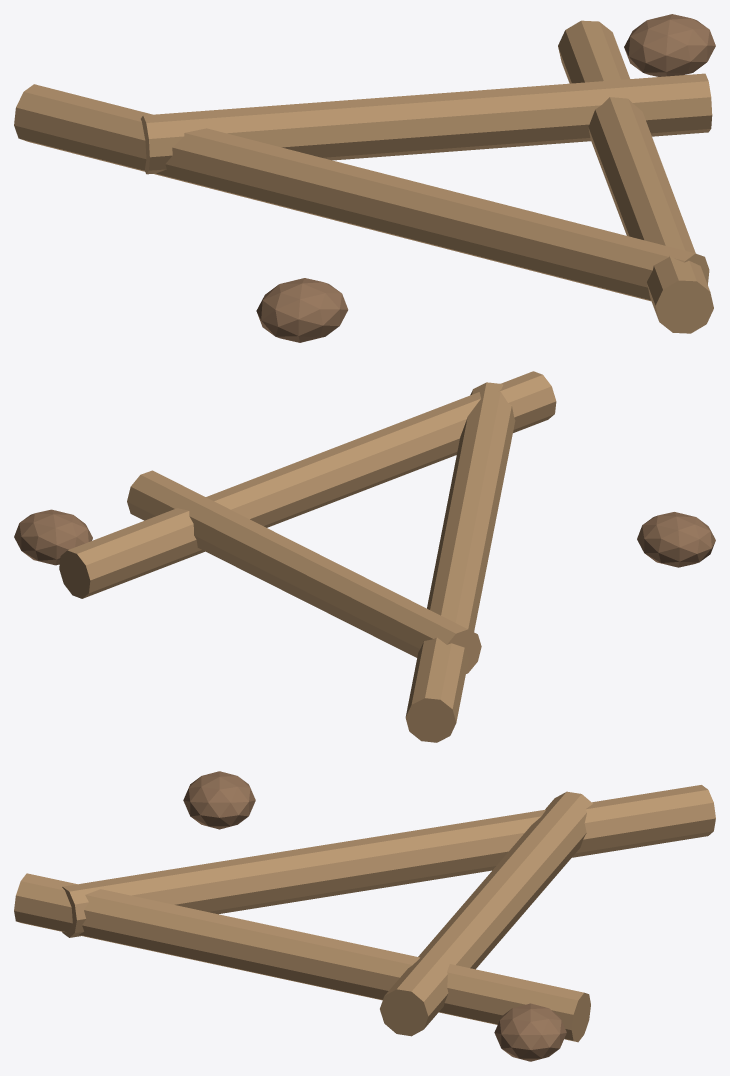
Rendered from env_twig_pile_v1.glb.
The picture shows the model from 3 angles, top to bottom: view 1: azimuth 30°, elevation 25°; view 2: azimuth 150°, elevation 25°; view 3: azimuth 270°, elevation 25°; orthographic projection. The views are drawn at different scales.
Visible parts, largest first — view 1: twig_0, twig_2, twig_1, bark_knot_0, bark_knot_1; view 2: twig_1, twig_0, twig_2, bark_knot_0, bark_knot_1; view 3: twig_0, twig_1, twig_2, bark_knot_0, bark_knot_1.
Boxes of the visible parts, x1,y1,x2,y2 form: twig_0: (14,84,709,301); twig_2: (141,73,712,174); twig_1: (558,20,713,333); bark_knot_0: (256,278,348,342); bark_knot_1: (624,14,715,76); twig_1: (59,371,556,598); twig_0: (405,382,515,742); twig_2: (127,470,481,673); bark_knot_0: (637,512,715,567); bark_knot_1: (14,509,92,565); twig_0: (62,785,715,937); twig_1: (14,873,590,1042); twig_2: (380,791,592,1036); bark_knot_0: (183,771,255,829); bark_knot_1: (494,1003,566,1061).
Bounding box in the file's own units: 0.61 × 0.0754 × 0.677.
